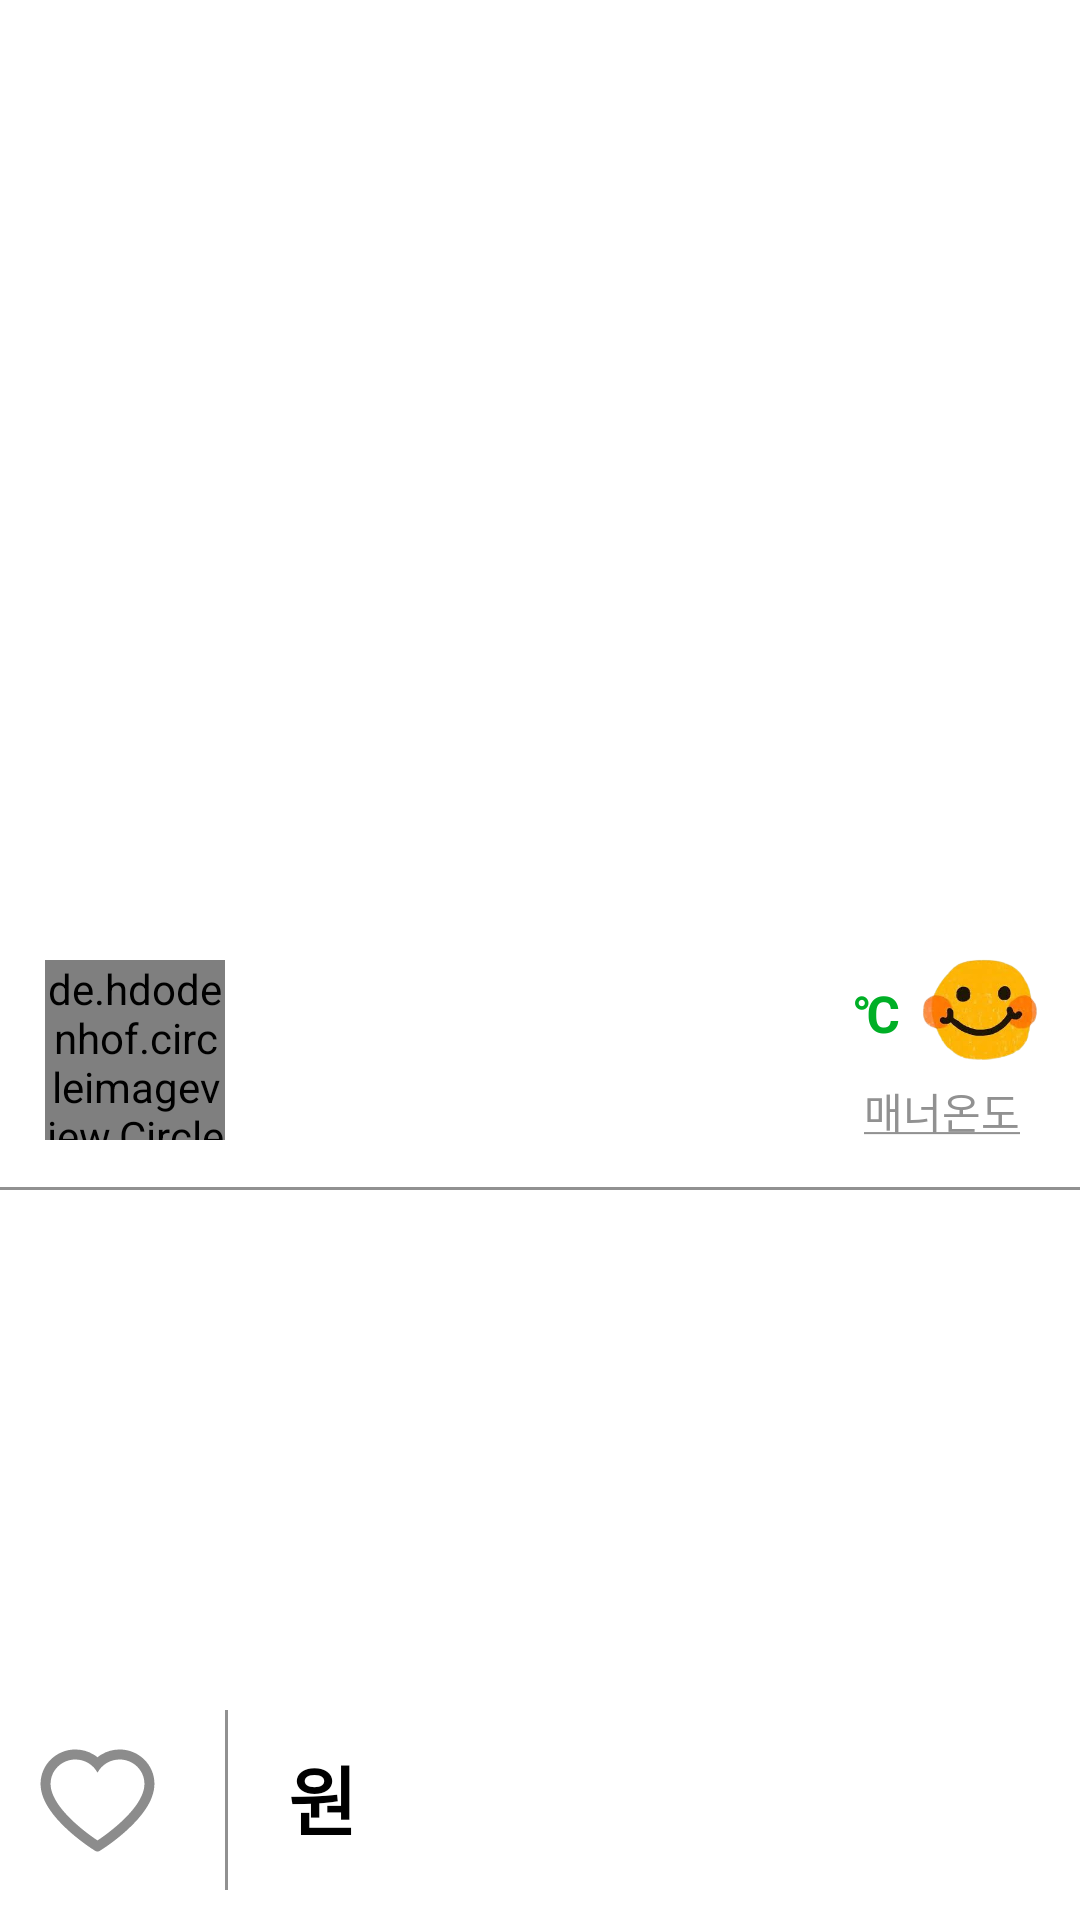

Point at icon controls on the screen. Image size 1080w x 1920h, points as [x,y].
heart num: [97,1800]
smile: [980,1010]
